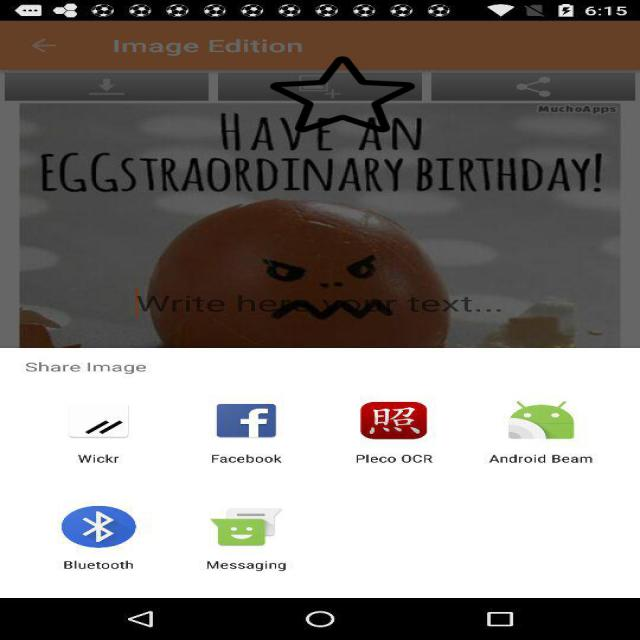forced continuity: (270, 55, 415, 134)
